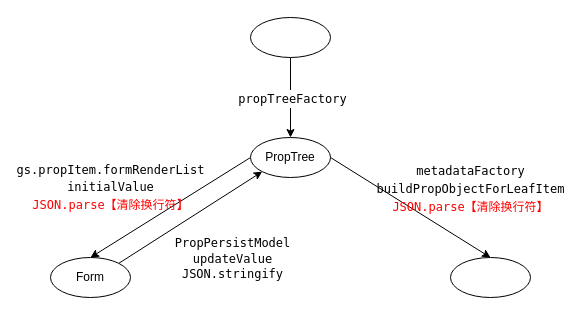
This 583x315 diagram has some shape labels left out. The shapes that lost their labels are listed below. From the top down, each one's box as (x1, y1, x2, y2) in pixels, then its label:
(250, 16, 330, 58): DB
(450, 256, 530, 298): Meta
